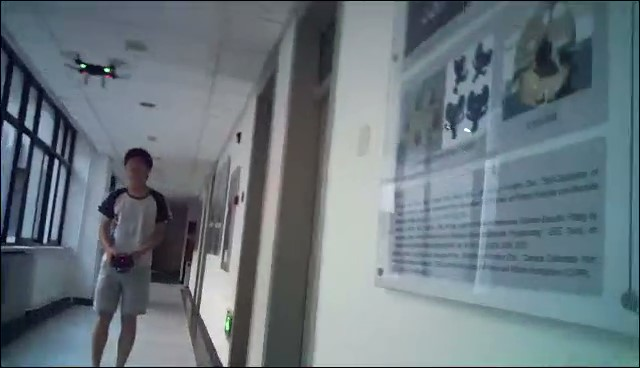drone: (58, 47, 134, 89)
person: (88, 145, 175, 368)
